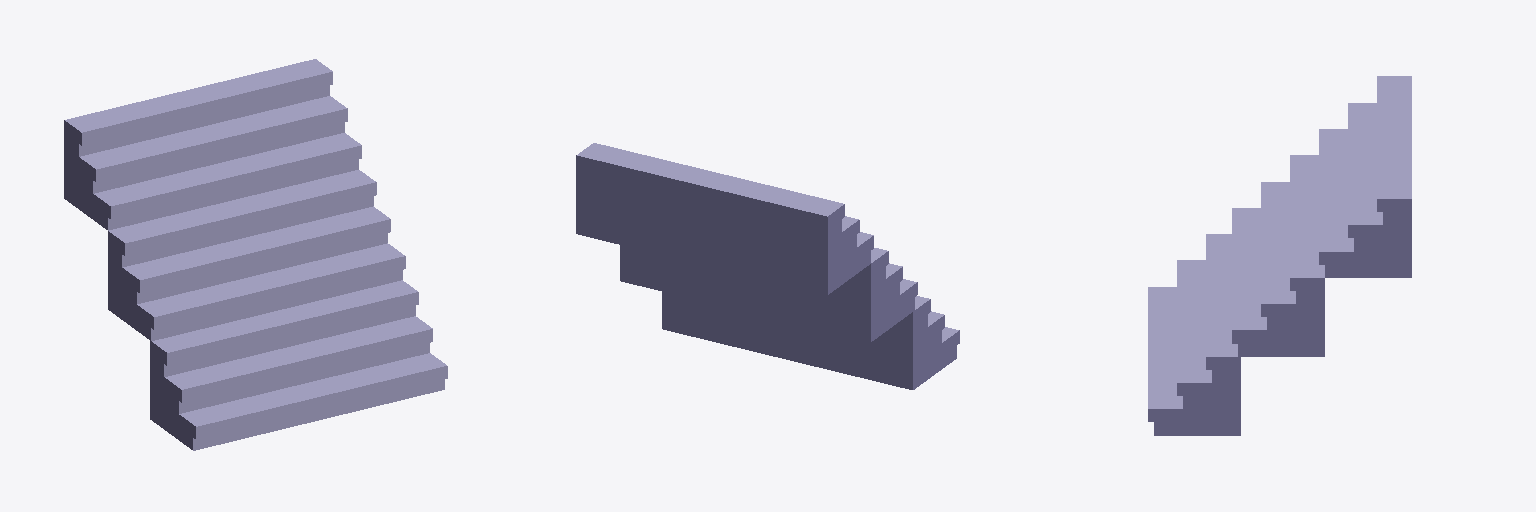
The model's file is stairs.obj.
3 renders of one model, left to right at view 1: azimuth 30°, elevation 25°; view 2: azimuth 150°, elevation 25°; view 3: azimuth 270°, elevation 25°, orthographic.
Parts seen in each view (by area): view 1: mergedBlocks; view 2: mergedBlocks; view 3: mergedBlocks.
Boxes of the visible parts, x1=… form: mergedBlocks: x1=64, y1=59, x2=447, y2=450; mergedBlocks: x1=576, y1=143, x2=959, y2=389; mergedBlocks: x1=1148, y1=76, x2=1411, y2=435.
Bounding box in the file's own units: 1 × 0.9 × 0.91.